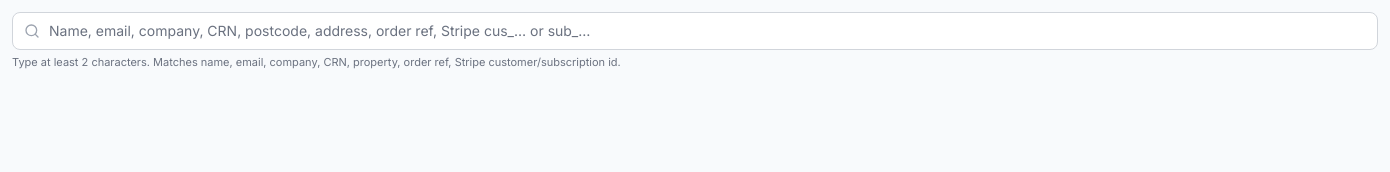
Scenario: AdminClientSupportSearch › shows error state on API failure
The width and height of the screenshot is (1390, 172).
Replace the text in the field with test id "admin-client-support-search-input" with "ok" at (695,31), box [12,12,1378,50]
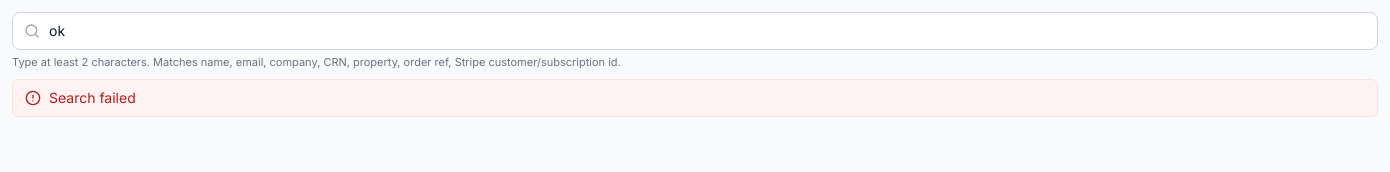
Now the element with test id "admin-client-support-search-error" reads "Search failed", box [49,88,136,106]
